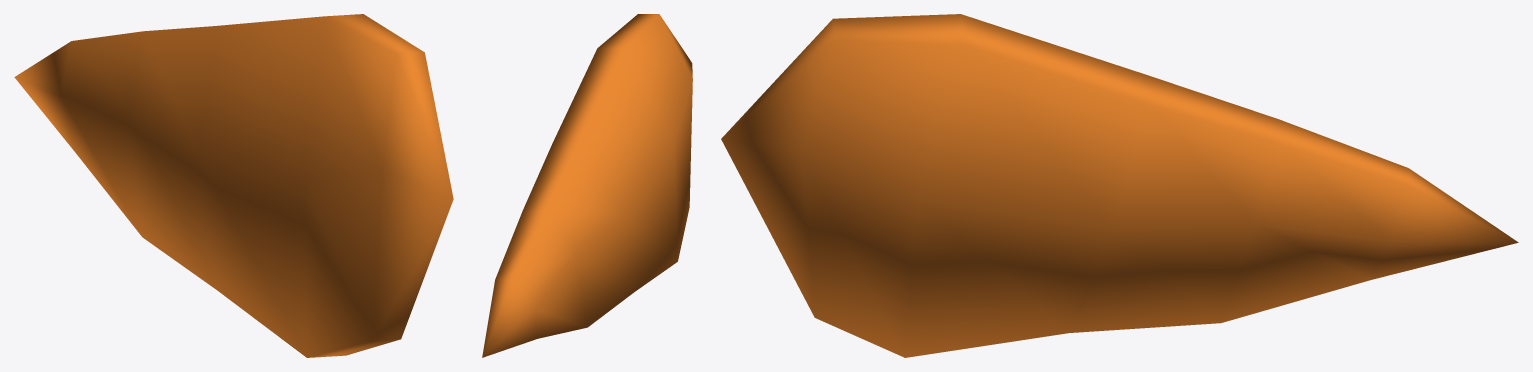
File: Char_FL_MG_FrontFin.FBX
3 views of the same model, side by side, from view 1: azimuth 30°, elevation 25°; view 2: azimuth 150°, elevation 25°; view 3: azimuth 270°, elevation 25° (orthographic). The views are drawn at different scales.
Parts seen in each view (by area): view 1: Cylinder013; view 2: Cylinder013; view 3: Cylinder013.
Boxes of the visible parts, x1=… form: Cylinder013: x1=14, y1=14, x2=453, y2=357; Cylinder013: x1=482, y1=14, x2=692, y2=357; Cylinder013: x1=721, y1=14, x2=1518, y2=357.
Bounding box in the file's own units: 3.3 × 9.31 × 19.32.
